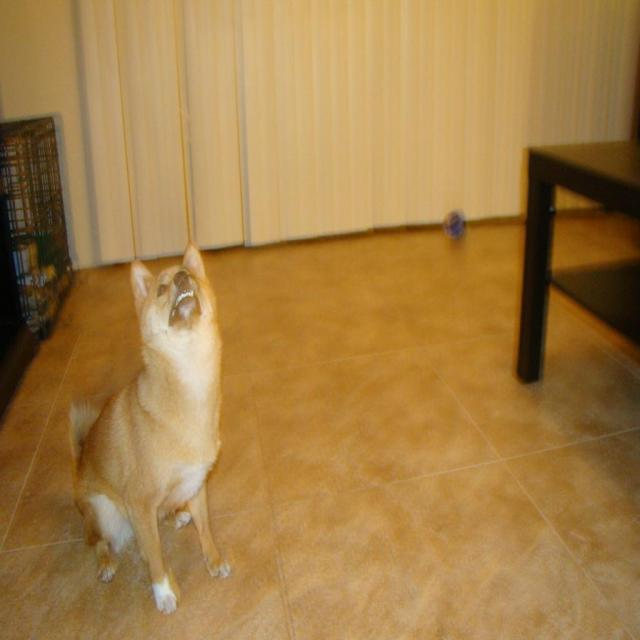Table: (524, 136, 638, 389)
